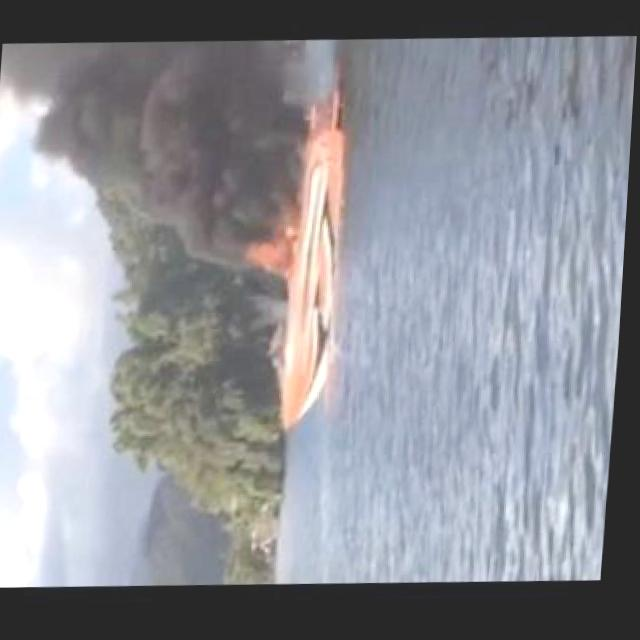helmet: (245, 222, 307, 282)
